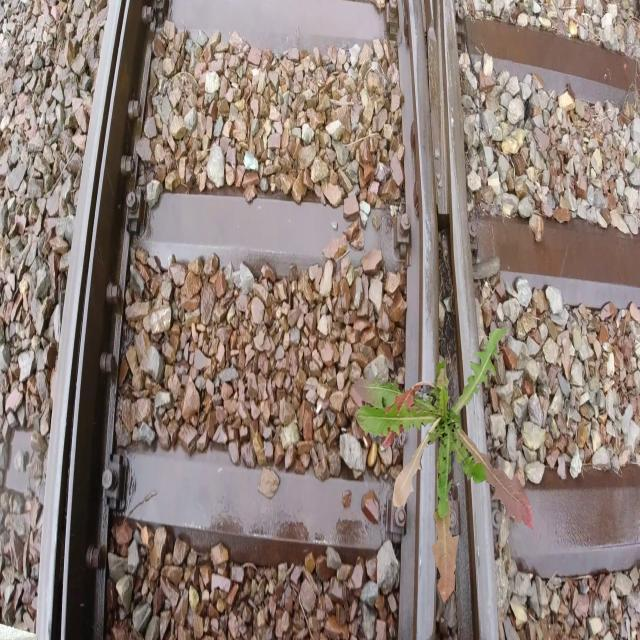Plant: (354, 326, 534, 604)
